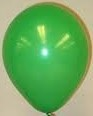Balloon: (2, 3, 90, 113)
